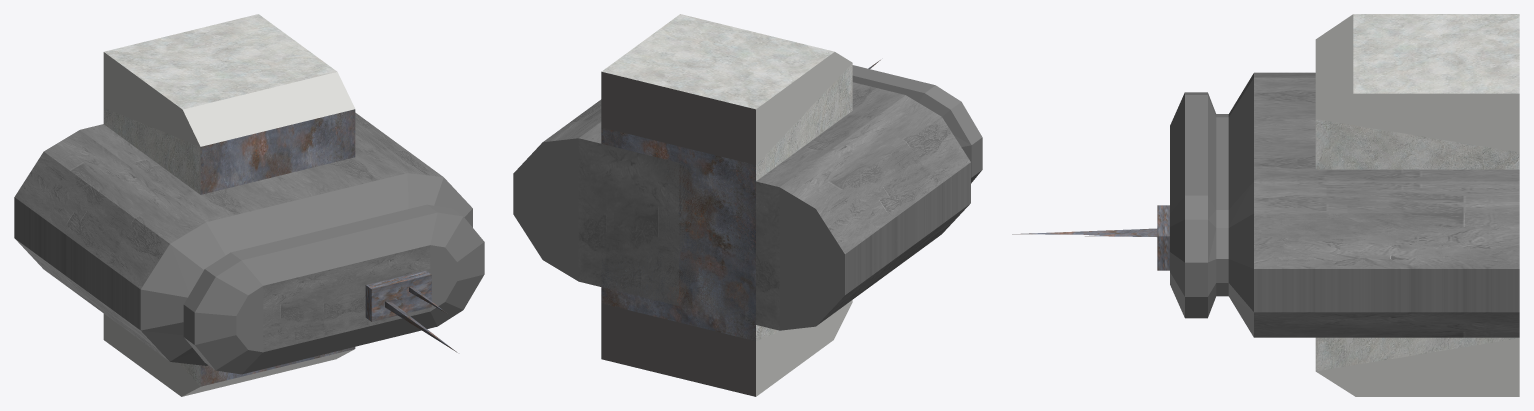
The model's file is bunker242_wtf.obj.
The picture shows the model from 3 angles, left to right: view 1: azimuth 30°, elevation 25°; view 2: azimuth 150°, elevation 25°; view 3: azimuth 270°, elevation 25°; orthographic projection. The views are drawn at different scales.
Parts seen in each view (by area): view 1: group7, group8, group2, group4, group3, group5; view 2: group7, group4, group2, group8; view 3: group2, group8, group7, group3, group5.
Boxes of the visible parts, x1,y1,x2,y2 form: group7: (14,124,346,374); group8: (103,14,355,396); group2: (278,112,484,350); group4: (200,109,355,386); group3: (365,270,431,321); group5: (385,301,457,352); group7: (679,65,982,330); group4: (601,71,755,396); group2: (513,99,679,305); group8: (602,14,852,396); group2: (1170,129,1519,337); group8: (1315,14,1519,396); group7: (1170,72,1315,169); group3: (1157,205,1169,270); group5: (1012,228,1157,234).
Bounding box in the file's own units: 524 × 434 × 660.
